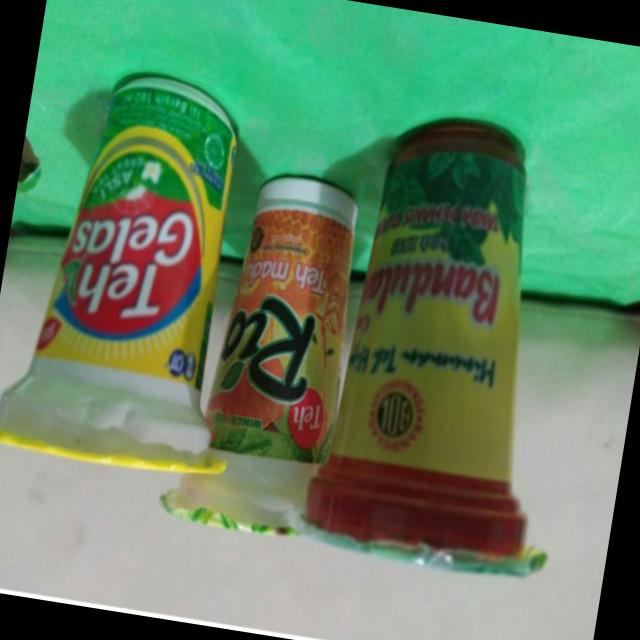GelasPlastik: (291, 104, 614, 588), (0, 57, 285, 486), (157, 162, 375, 547)
